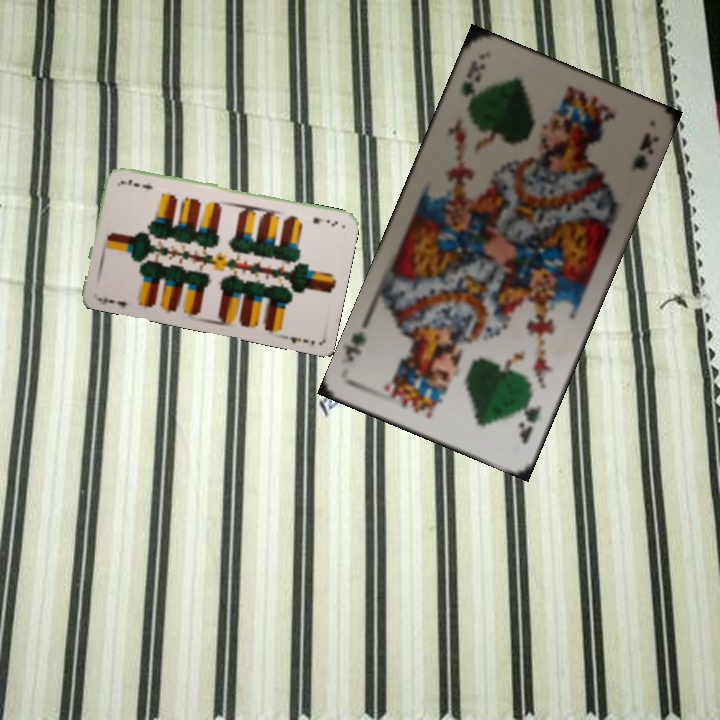E7: (94, 293, 129, 311), (309, 213, 340, 230)
GK: (514, 390, 544, 447), (457, 56, 488, 99)
